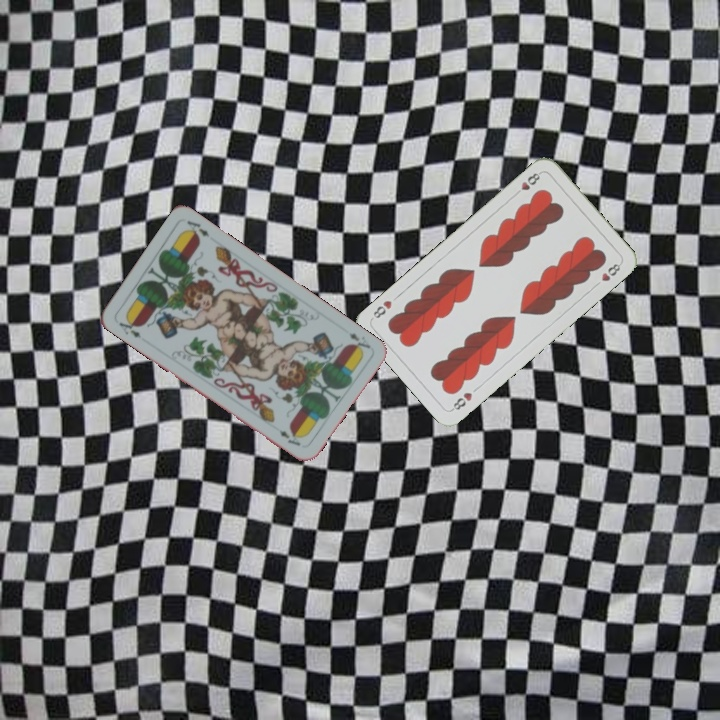EA: (345, 328, 373, 352), (115, 318, 144, 341)
H8: (510, 168, 543, 199), (448, 388, 475, 414)
